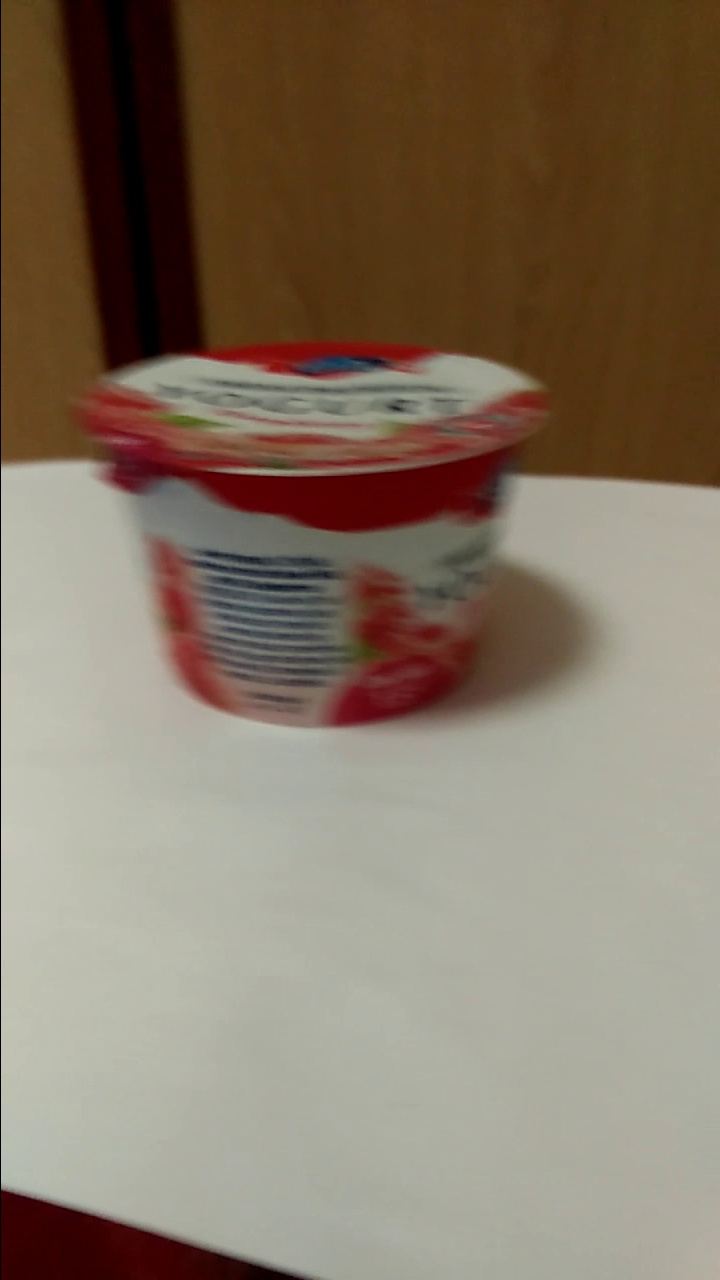yogurt: (78, 345, 537, 727)
